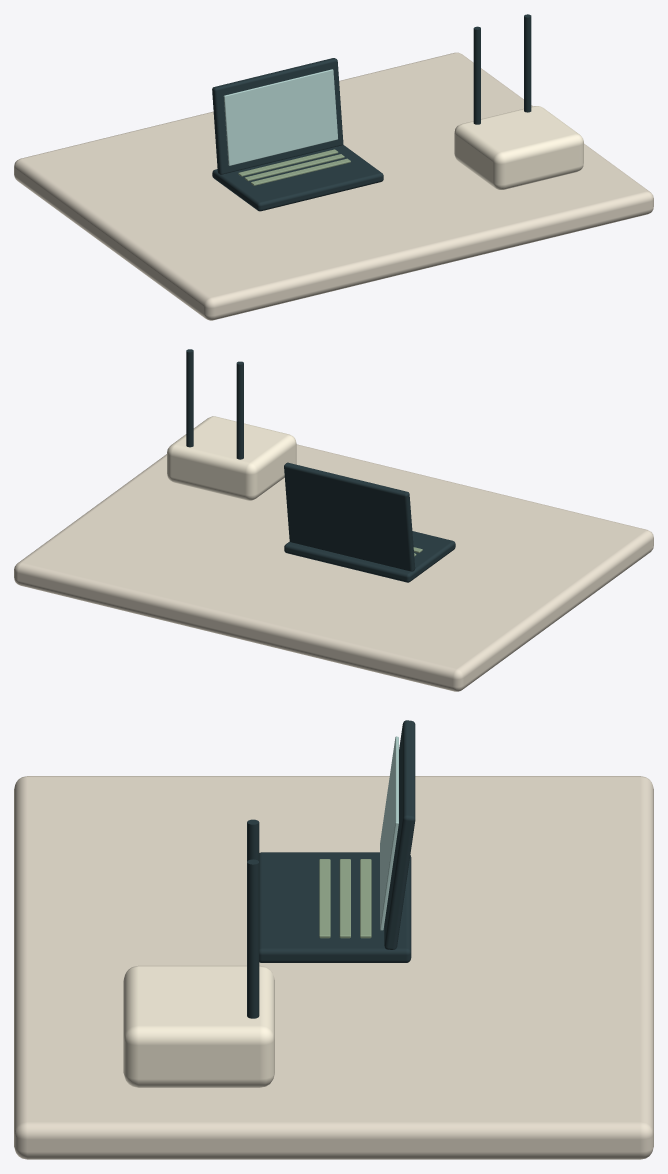
The model's file is work-network.glb.
3 views of the same model, one above another, from view 1: azimuth 30°, elevation 25°; view 2: azimuth 150°, elevation 25°; view 3: azimuth 270°, elevation 25° (orthographic). The views are drawn at different scales.
Visible parts, largest first — view 1: display-plinth, screen, network-router, keyboard-base, display-shell, key-row (×3), antenna (×2); view 2: display-plinth, display-shell, network-router, keyboard-base, antenna (×2); view 3: display-plinth, network-router, keyboard-base, display-shell, key-row (×3), screen, antenna.
Part boxes in pixels (x1=…): display-plinth: x1=14, y1=52, x2=653, y2=320; screen: x1=223, y1=69, x2=337, y2=165; network-router: x1=454, y1=106, x2=583, y2=189; keyboard-base: x1=212, y1=144, x2=383, y2=211; display-shell: x1=212, y1=58, x2=343, y2=174; key-row (×3): x1=238, y1=149, x2=350, y2=185; antenna (×2): x1=473, y1=14, x2=531, y2=124; display-plinth: x1=14, y1=444, x2=653, y2=691; display-shell: x1=284, y1=462, x2=415, y2=571; network-router: x1=167, y1=416, x2=296, y2=500; keyboard-base: x1=284, y1=531, x2=455, y2=582; antenna (×2): x1=186, y1=349, x2=243, y2=459; display-plinth: x1=14, y1=776, x2=653, y2=1159; network-router: x1=123, y1=965, x2=274, y2=1087; keyboard-base: x1=259, y1=852, x2=411, y2=962; display-shell: x1=384, y1=720, x2=415, y2=949; key-row (×3): x1=319, y1=859, x2=371, y2=938; screen: x1=380, y1=736, x2=398, y2=930; antenna: x1=247, y1=859, x2=259, y2=1018.
Bounding box in the file's own units: 2.5 × 0.845 × 1.9.
